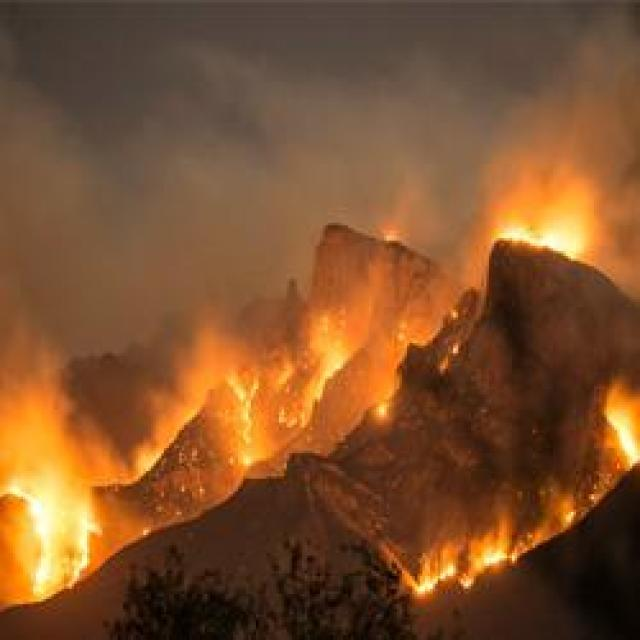Fire: (112, 333, 300, 486), (10, 402, 121, 580), (312, 314, 432, 436), (495, 176, 597, 262), (427, 517, 521, 599), (308, 301, 362, 406), (602, 379, 640, 477), (368, 212, 408, 250)
Smoke: (13, 90, 320, 292), (302, 74, 476, 188)
